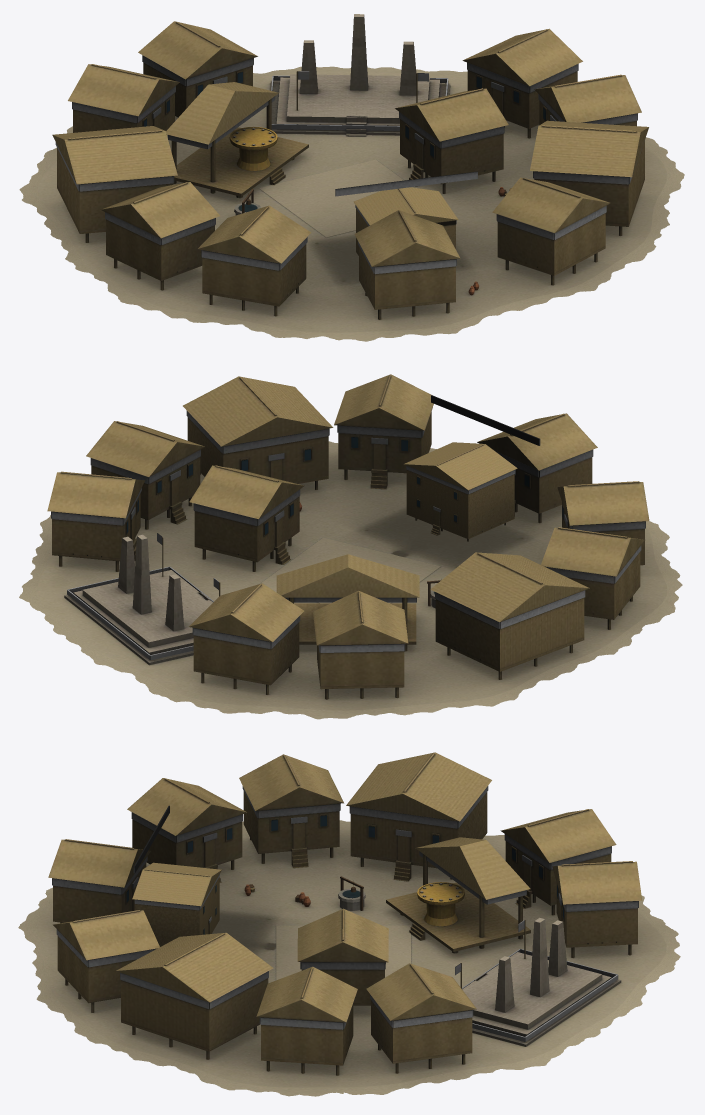
File: bronze-town-medium-a-monsoon-20214575.glb
The picture shows the model from 3 angles, top to bottom: view 1: azimuth 30°, elevation 25°; view 2: azimuth 150°, elevation 25°; view 3: azimuth 270°, elevation 25°; orthographic projection.
Parts seen in each view (by area): view 1: LOD0; view 2: LOD0; view 3: LOD0.
Boxes of the visible parts, x1,y1,x2,y2 form: LOD0: (19,14,684,341); LOD0: (19,374,682,719); LOD0: (18,752,680,1096).
Size of what is drawn, in the model's own units: 5.91 by 0.9958 by 6.03.
3 materials, 3 textured.
